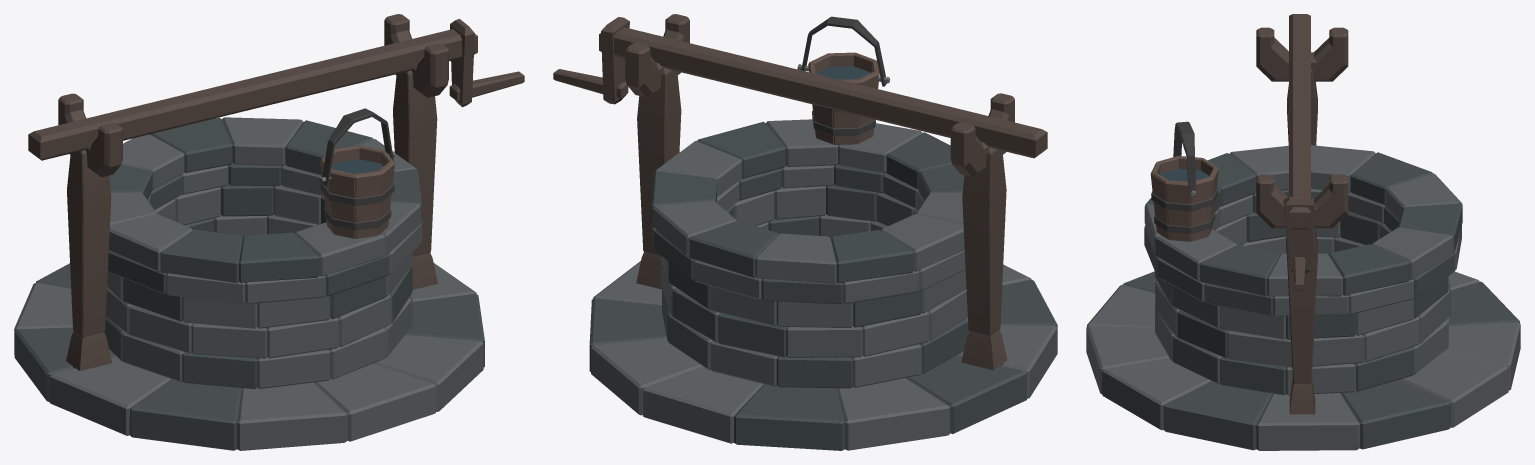
File: props_92.glb
3 views of the same model, side by side, from view 1: azimuth 30°, elevation 25°; view 2: azimuth 150°, elevation 25°; view 3: azimuth 270°, elevation 25° (orthographic). The views are drawn at different scales.
Visible parts, largest first — view 1: props_92; view 2: props_92; view 3: props_92.
Part boxes in pixels (box(x1,y1,x2,y2)): props_92: box(14, 14, 524, 450); props_92: box(553, 14, 1057, 450); props_92: box(1086, 14, 1520, 450).
Bounding box in the file's own units: 3.44 × 1.89 × 2.88.
1 material, 1 textured.
